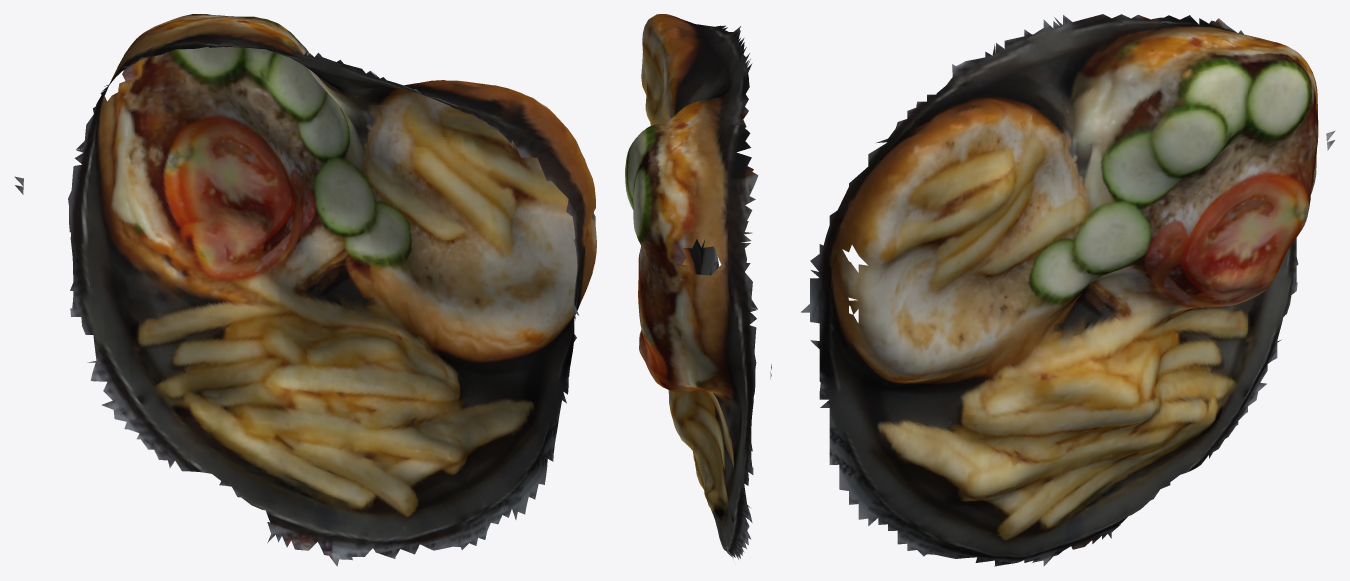
The model's file is bappas.glb.
The picture shows the model from 3 angles, left to right: view 1: azimuth 30°, elevation 25°; view 2: azimuth 150°, elevation 25°; view 3: azimuth 270°, elevation 25°; orthographic projection. The views are drawn at different scales.
Parts seen in each view (by area): view 1: model; view 2: model; view 3: model.
Boxes of the visible parts, x1,y1,x2,y2 form: model: (14, 14, 596, 566); model: (625, 14, 771, 559); model: (801, 14, 1335, 566).
Size of the model in its own units: 0.7548 by 1.05 by 0.9477.
Materials: 1 (1 with a texture image).
